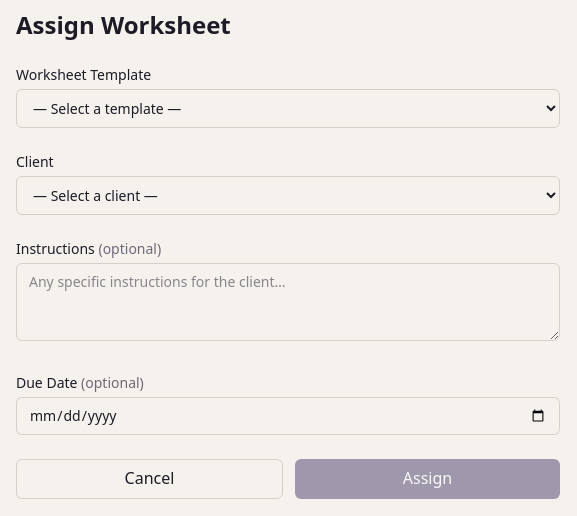
Test case: Create assignment page › submit button becomes enabled after selecting template and client
This screenshot has width=577, height=516.
Select "PHQ-9" in the dropdown labelled "Worksheet Template" at coordinates (288, 108), box [16, 89, 560, 128]
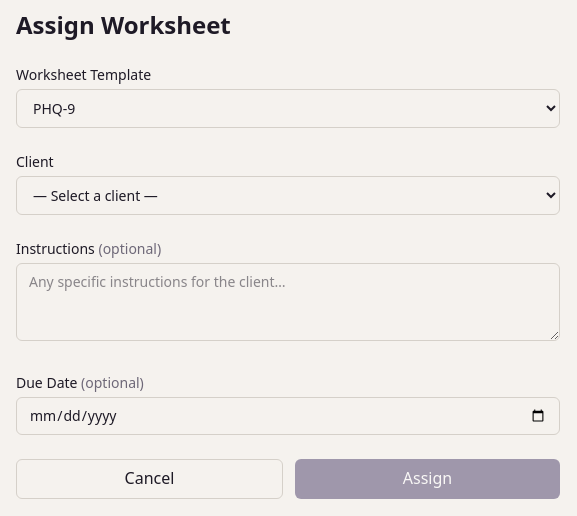
Select "Alice Dube" in the dropdown labelled "Client" at coordinates (288, 196), box [16, 176, 560, 215]
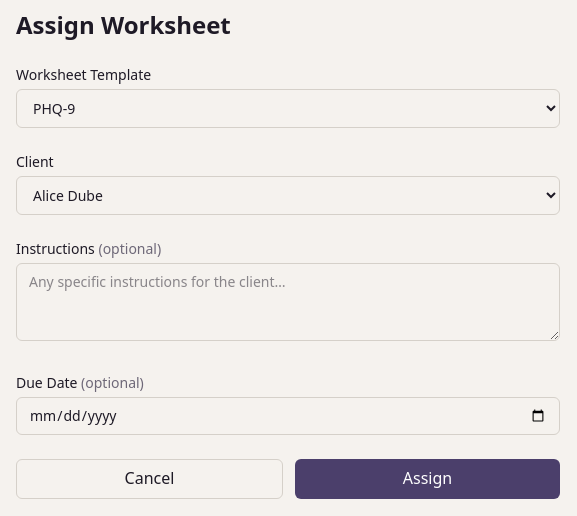
Expected: the button "Assign" is enabled, [295, 459, 560, 499]
